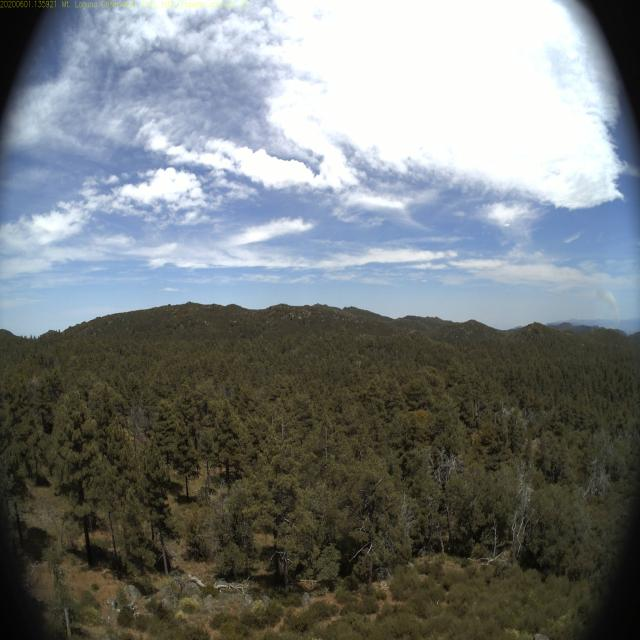smoke: (594, 286, 624, 326)
